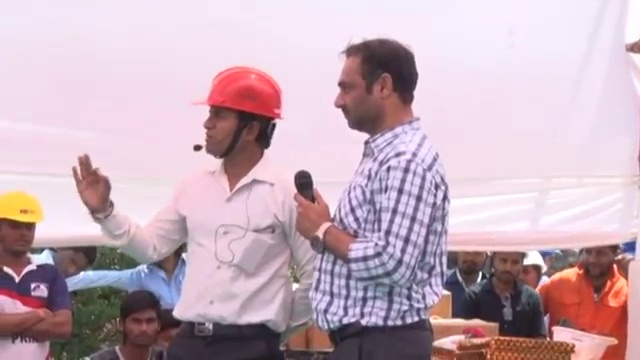helmet: (182, 68, 283, 123), (551, 326, 620, 360), (0, 190, 46, 227), (519, 251, 547, 275)
helmet_off: (334, 38, 424, 135), (117, 289, 164, 353), (50, 243, 97, 283), (488, 247, 526, 288), (582, 241, 619, 280), (456, 251, 488, 282)
helmet_on: (183, 69, 283, 165), (0, 190, 45, 259), (519, 252, 547, 287)
person: (73, 65, 317, 360), (290, 39, 446, 360), (0, 190, 73, 360), (539, 244, 637, 345), (459, 251, 547, 341), (129, 242, 192, 307), (444, 251, 491, 316)
